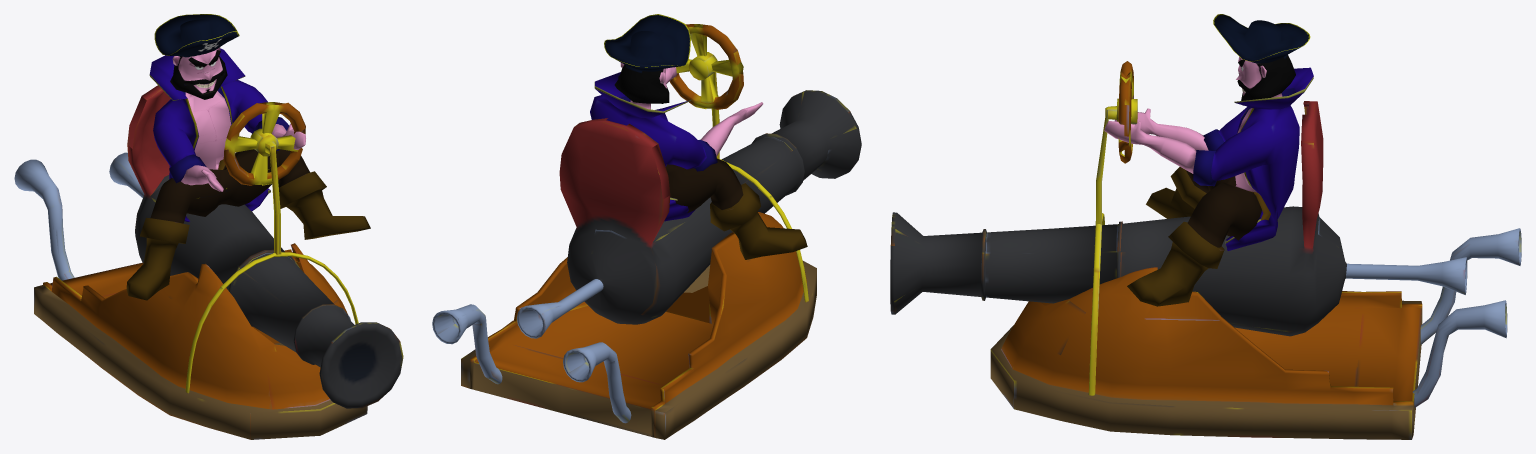
File: pirataGiroDer_000167.obj
3 views of the same model, side by side, from view 1: azimuth 30°, elevation 25°; view 2: azimuth 150°, elevation 25°; view 3: azimuth 270°, elevation 25° (orthographic). The views are drawn at different scales.
Visible parts, largest first — view 1: carro_pirata, Pirata_PirataH_Pirata_PirataH.001; view 2: carro_pirata, Pirata_PirataH_Pirata_PirataH.001; view 3: carro_pirata, Pirata_PirataH_Pirata_PirataH.001.
Boxes of the visible parts, <box> form: carro_pirata: <box>14,85,403,439</box>; Pirata_PirataH_Pirata_PirataH.001: <box>126,14,370,300</box>; carro_pirata: <box>432,24,861,439</box>; Pirata_PirataH_Pirata_PirataH.001: <box>590,14,807,259</box>; carro_pirata: <box>890,61,1521,439</box>; Pirata_PirataH_Pirata_PirataH.001: <box>1104,14,1313,306</box>.
Bounding box in the file's own units: 5.63 × 7.55 × 12.1.
2 materials, 2 textured.
